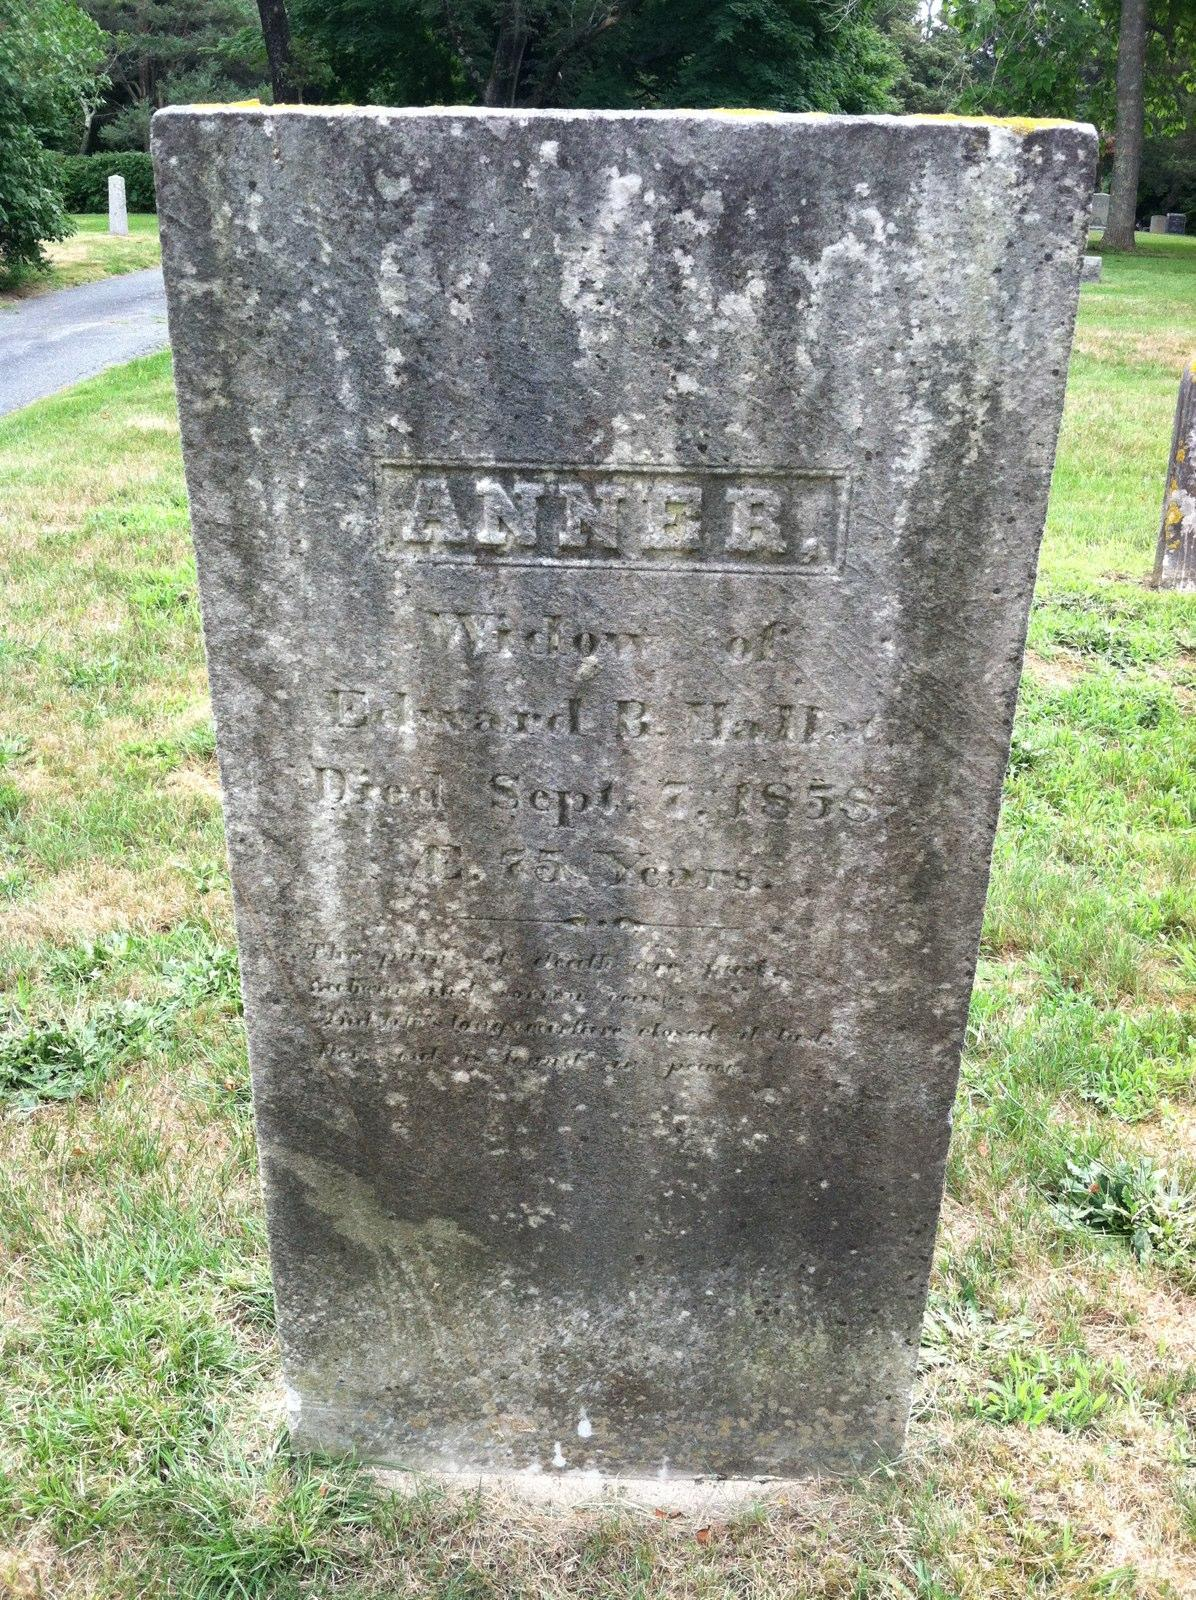upright: (143, 102, 1098, 1486)
